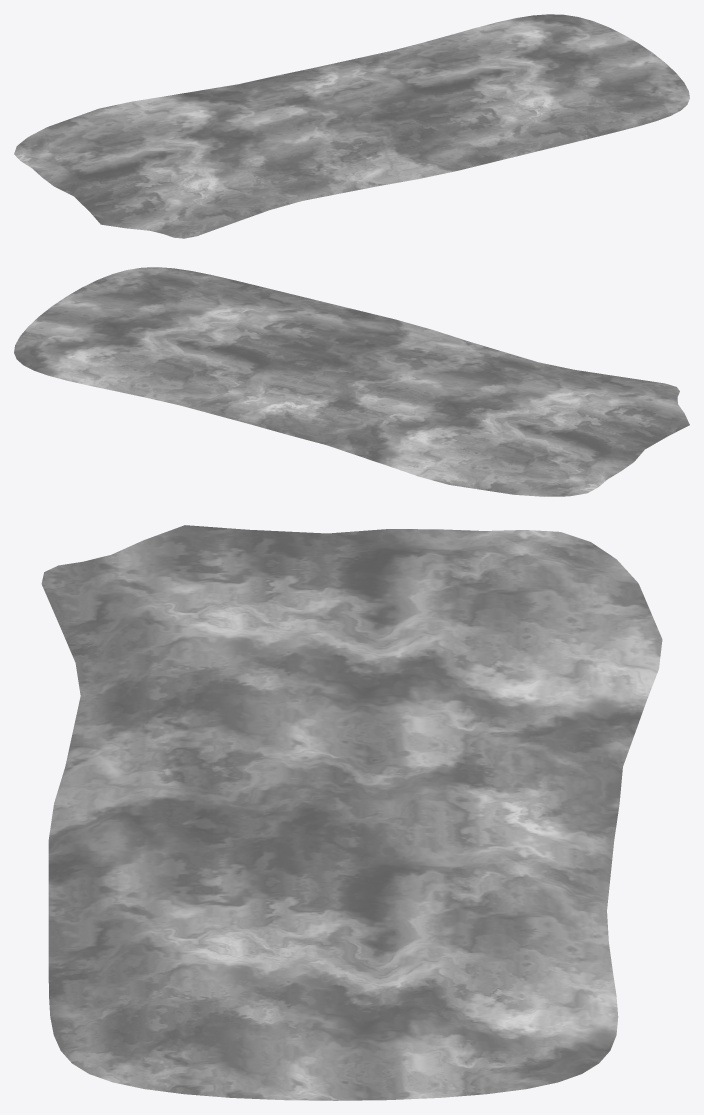
Rendered from SM_ground_grass_03.fbx.
The picture shows the model from 3 angles, top to bottom: view 1: azimuth 30°, elevation 25°; view 2: azimuth 150°, elevation 25°; view 3: azimuth 270°, elevation 25°; orthographic projection. The views are drawn at different scales.
Parts seen in each view (by area): view 1: SM_ground_grass_03; view 2: SM_ground_grass_03; view 3: SM_ground_grass_03.
Boxes of the visible parts, left/top/right/bottom form: SM_ground_grass_03: left=14, top=14, right=689, bottom=238; SM_ground_grass_03: left=14, top=267, right=689, bottom=496; SM_ground_grass_03: left=41, top=525, right=662, bottom=1100.
Bounding box in the file's own units: 703 × 321 × 8.73.
1 material, 1 textured.
